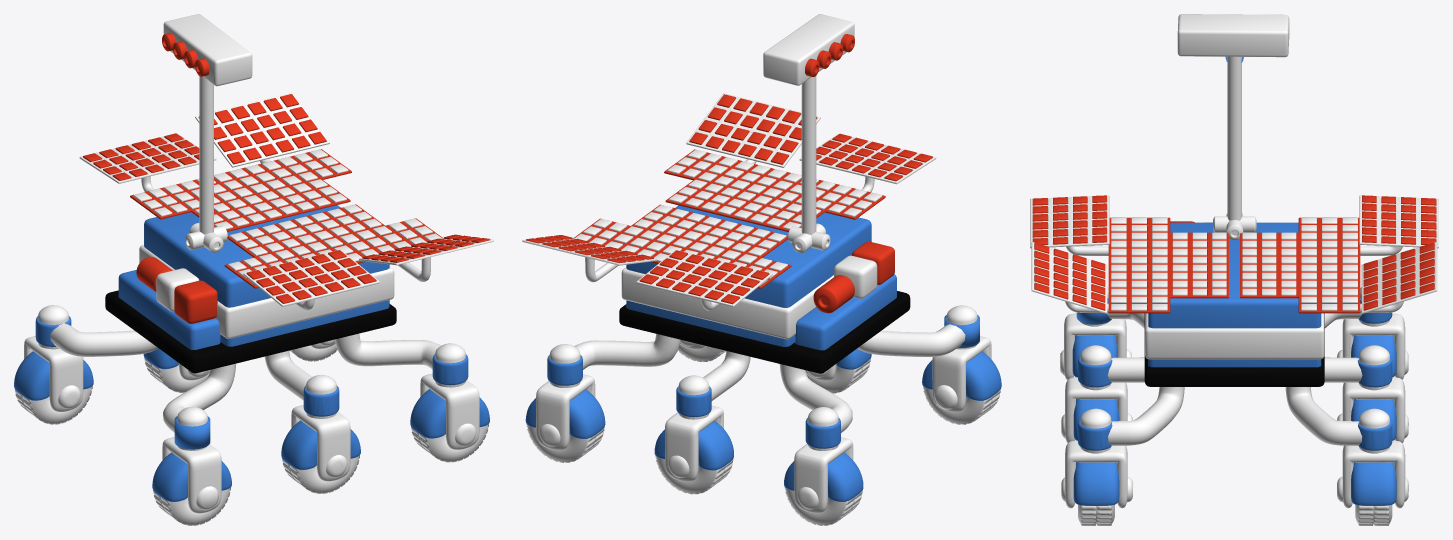
The model's file is rover-robot-3d-animated-icon-188981306634.glb.
3 renders of one model, left to right at view 1: azimuth 30°, elevation 25°; view 2: azimuth 150°, elevation 25°; view 3: azimuth 270°, elevation 25°, orthographic.
Visible parts, largest first — view 1: NurbsPath.090, Cube.257, Plane.034, Plane.048, Cube.259, Cube.260, Plane.033, Plane.052, Cube.261, Plane.054, Plane.047, Cube.258 (+17 smaller); view 2: NurbsPath.090, Cube.257, Plane.048, Cube.259, Plane.034, Cube.260, Plane.047, Plane.056, Cube.261, Cube.258, Plane.050, Plane.033 (+17 smaller); view 3: NurbsPath.090, Cube.257, Plane.034, Plane.048, Cube.260, Cube.261, Plane.033, Plane.047, Cube.259, Plane.050, Plane.054, Plane.052 (+9 smaller).
Boxes of the visible parts, left/top/right/bottom form: NurbsPath.090: left=14, top=305, right=489, bottom=513; Cube.257: left=144, top=205, right=389, bottom=346; Plane.034: left=133, top=149, right=348, bottom=229; Plane.048: left=228, top=204, right=441, bottom=285; Cube.259: left=105, top=290, right=396, bottom=373; Cube.260: left=139, top=245, right=394, bottom=338; Plane.033: left=130, top=149, right=351, bottom=231; Plane.052: left=198, top=94, right=326, bottom=164; Cube.261: left=163, top=14, right=252, bottom=86; Plane.054: left=246, top=250, right=376, bottom=303; Plane.047: left=224, top=204, right=442, bottom=288; Cube.258: left=118, top=270, right=220, bottom=349; NurbsPath.090: left=525, top=305, right=1001, bottom=513; Cube.257: left=626, top=205, right=871, bottom=346; Plane.048: left=667, top=149, right=882, bottom=229; Cube.259: left=619, top=291, right=910, bottom=373; Plane.034: left=574, top=205, right=787, bottom=285; Cube.260: left=621, top=267, right=833, bottom=339; Plane.047: left=664, top=149, right=885, bottom=231; Plane.056: left=689, top=94, right=817, bottom=164; Cube.261: left=763, top=14, right=854, bottom=85; Cube.258: left=795, top=274, right=896, bottom=350; Plane.050: left=639, top=250, right=769, bottom=304; Plane.033: left=573, top=204, right=791, bottom=288; NurbsPath.090: left=1060, top=287, right=1408, bottom=508; Cube.257: left=1148, top=222, right=1321, bottom=367; Plane.034: left=1242, top=217, right=1357, bottom=310; Plane.048: left=1111, top=217, right=1226, bottom=310; Cube.260: left=1145, top=313, right=1324, bottom=359; Cube.261: left=1177, top=14, right=1289, bottom=57; Plane.033: left=1240, top=217, right=1360, bottom=313; Plane.047: left=1108, top=217, right=1228, bottom=313; Cube.259: left=1144, top=313, right=1324, bottom=386; Plane.050: left=1362, top=195, right=1436, bottom=244; Plane.054: left=1032, top=195, right=1106, bottom=244; Plane.052: left=1363, top=242, right=1434, bottom=310.
Bounding box in the file's own units: 7.65 × 9.26 × 8.28.
